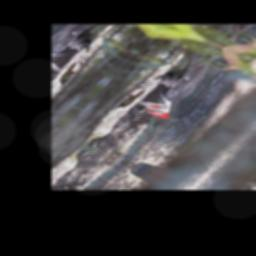Woodpecker: (115, 36, 233, 122)
